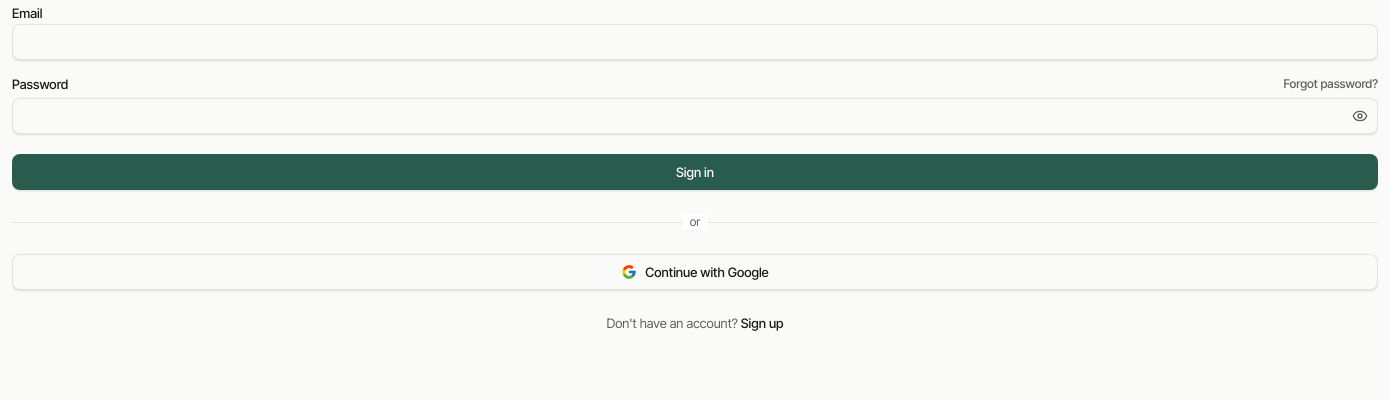
Scenario: SignInForm › displays server error message when signIn throws
This screenshot has width=1390, height=400.
Type "test@example.com" into the field labelled "Email" at (695, 42), box [12, 24, 1378, 60]
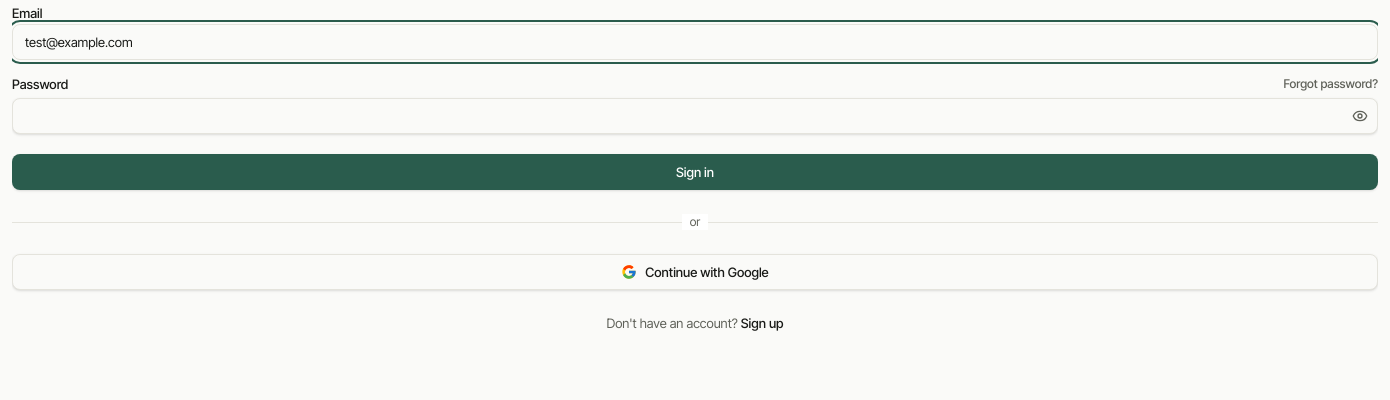
Type "WrongPassword" into the password field labelled "Password" at (695, 116), box [12, 98, 1378, 134]
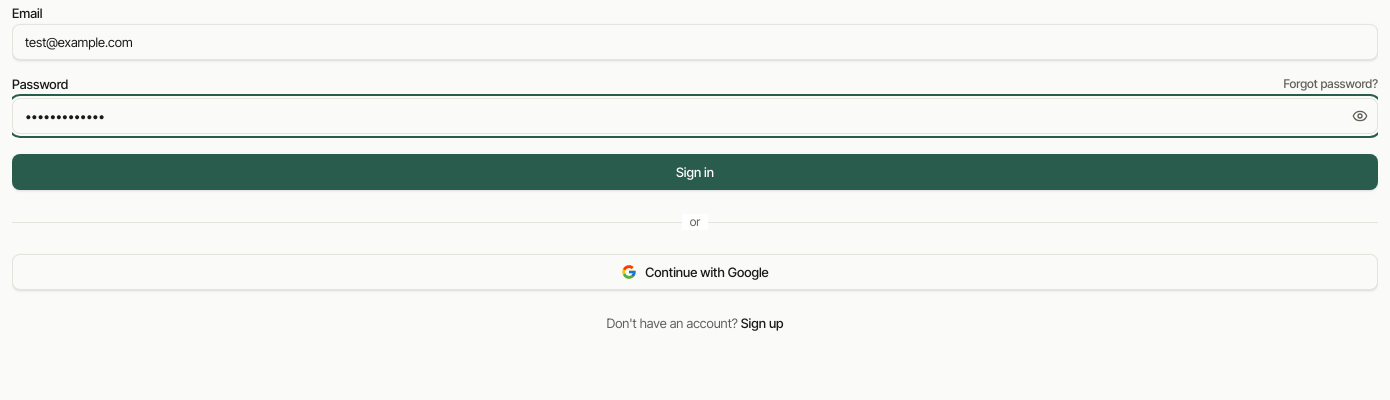
Click the button "Sign in" at (695, 172), box [12, 154, 1378, 190]
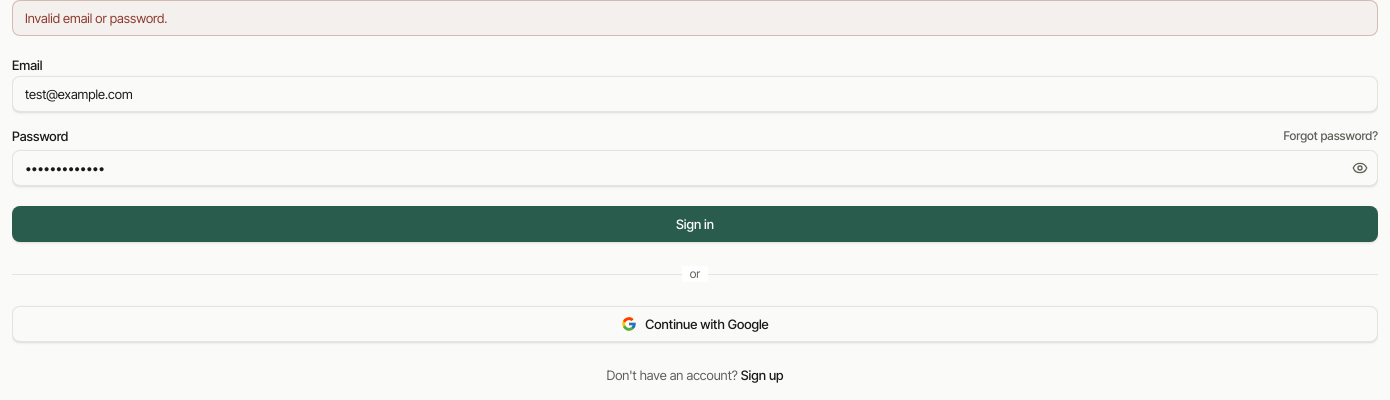
Result: the message reads "Invalid email or password." at [25, 10, 168, 26]
